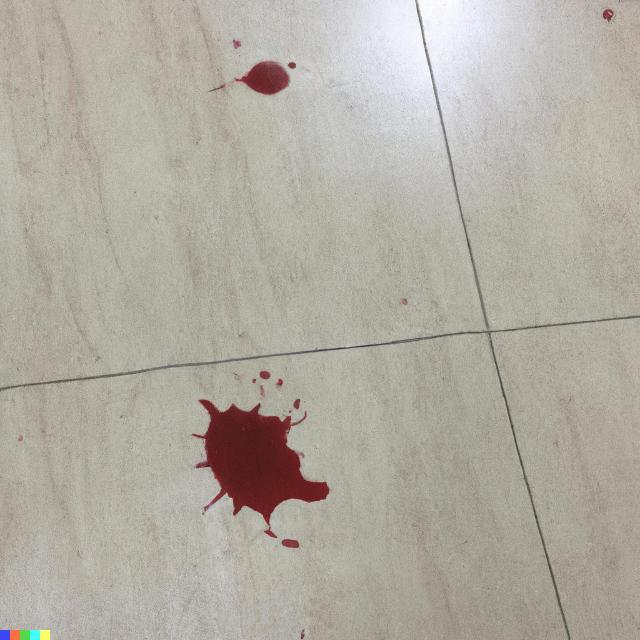blood: (191, 399, 330, 538), (234, 61, 289, 95), (281, 539, 299, 548), (258, 370, 270, 379), (293, 399, 301, 409), (288, 61, 296, 69), (277, 378, 283, 386)
